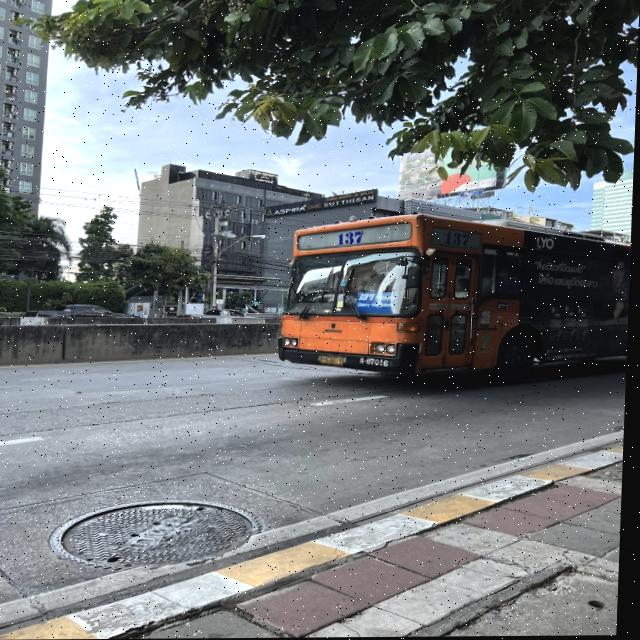BMTA-bus: (265, 208, 634, 385)
Bus-Line-Number: (338, 229, 368, 247)
Destination-Sign-Normal: (357, 292, 403, 314)
